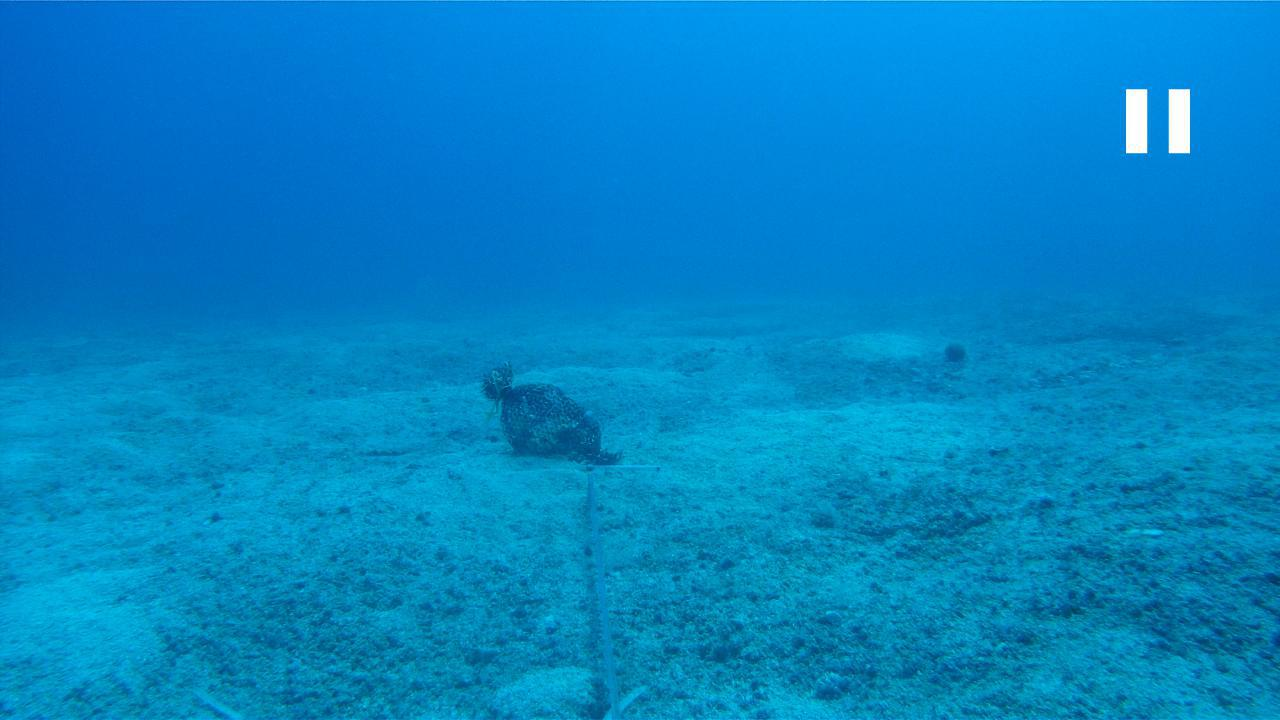bothus: (353, 431, 428, 456)
